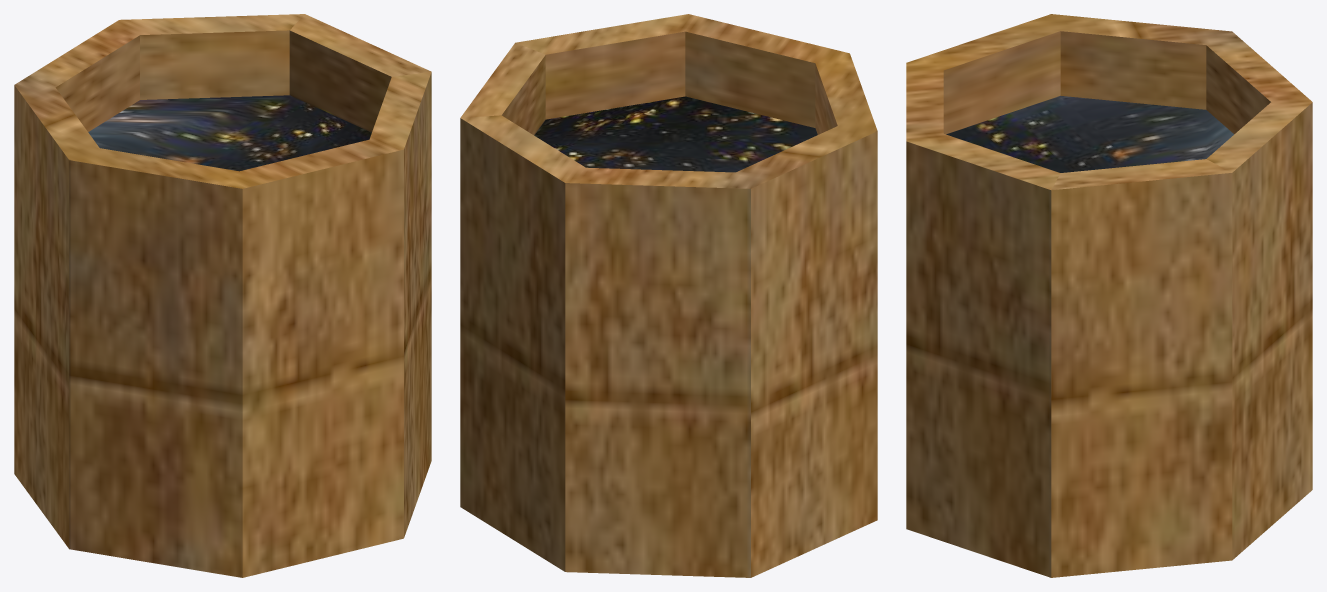
File: Barrel01.fbx
3 views of the same model, side by side, from view 1: azimuth 30°, elevation 25°; view 2: azimuth 150°, elevation 25°; view 3: azimuth 270°, elevation 25° (orthographic).
Visible parts, largest first — view 1: Cylinder; view 2: Cylinder; view 3: Cylinder.
Boxes of the visible parts, left/top/right/bottom form: Cylinder: left=14, top=14, right=431, bottom=577; Cylinder: left=460, top=14, right=877, bottom=577; Cylinder: left=906, top=14, right=1312, bottom=577.
Size of the model in its own units: 195 by 200 by 190.
